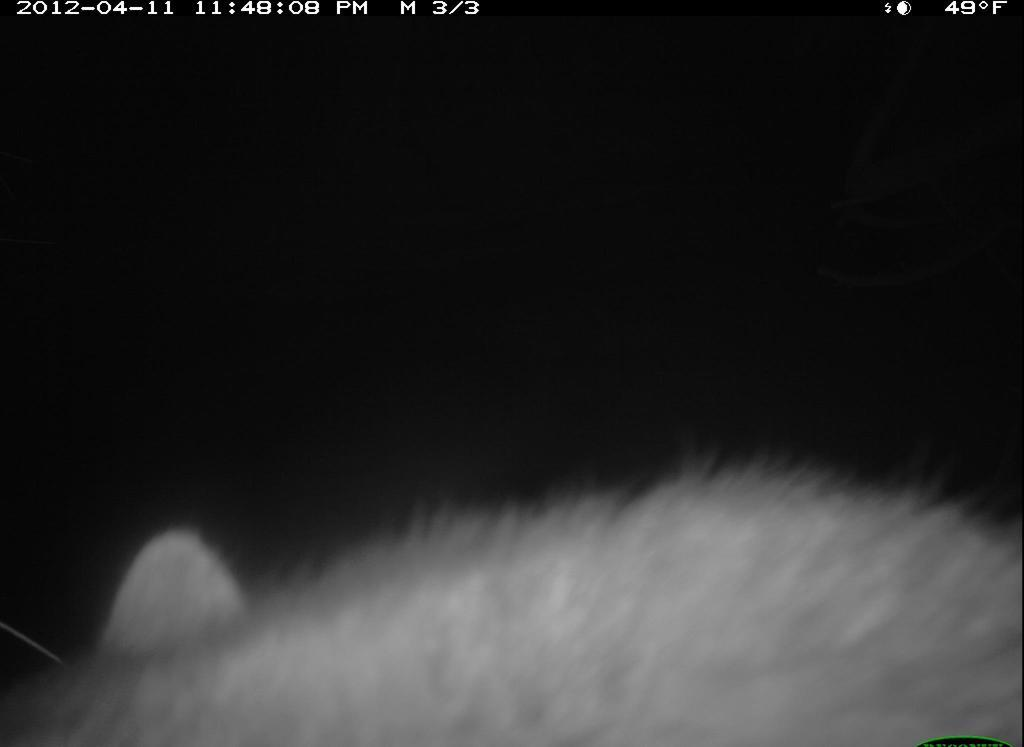raccoon: (7, 446, 1022, 747)
